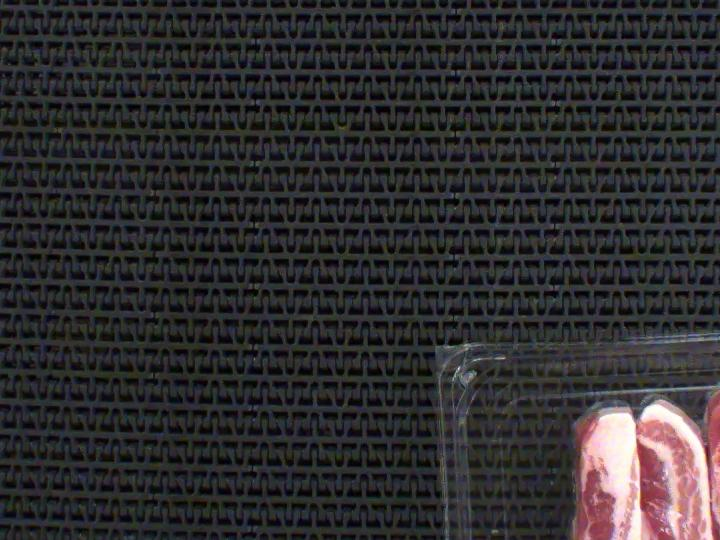packaging-error: (705, 355, 720, 388)
unsealed: (563, 370, 720, 427)
